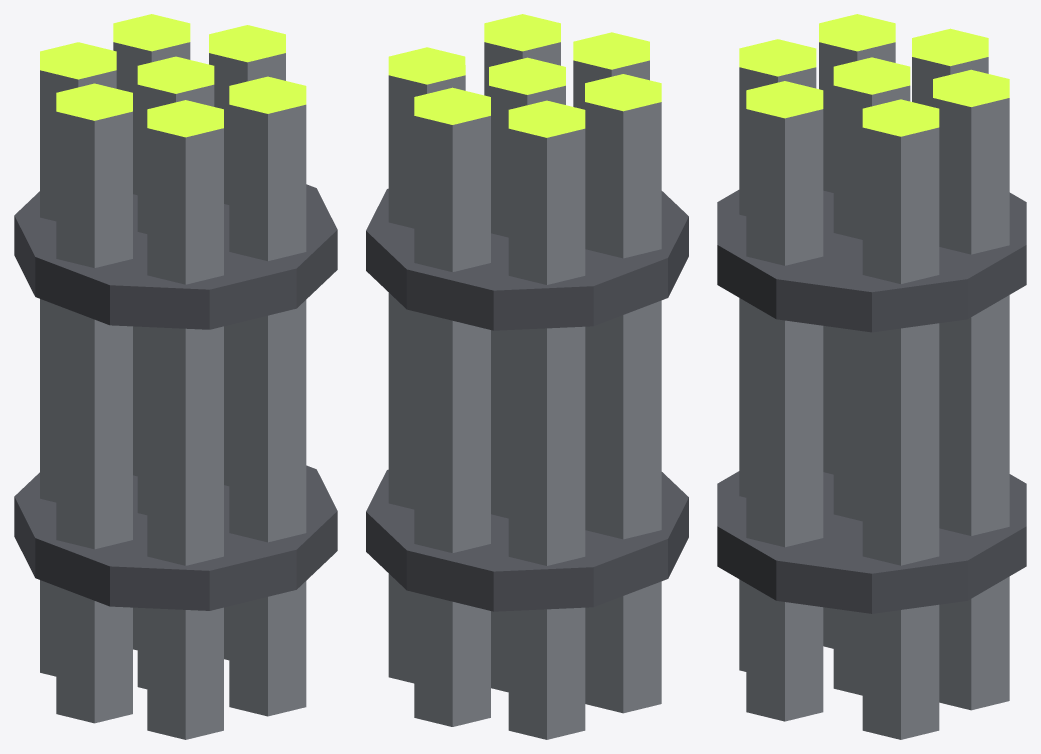
Rendered from fuel_rod.glb.
3 renders of one model, left to right at view 1: azimuth 30°, elevation 25°; view 2: azimuth 150°, elevation 25°; view 3: azimuth 270°, elevation 25°, orthographic.
Visible parts, largest first — view 1: fuel_rod; view 2: fuel_rod; view 3: fuel_rod.
Part boxes in pixels (x1,y1,x2,y2): fuel_rod: [14, 14, 337, 739]; fuel_rod: [366, 14, 688, 739]; fuel_rod: [717, 14, 1026, 739].
Size of the model in its own units: 0.44 by 0.9 by 0.4184.
